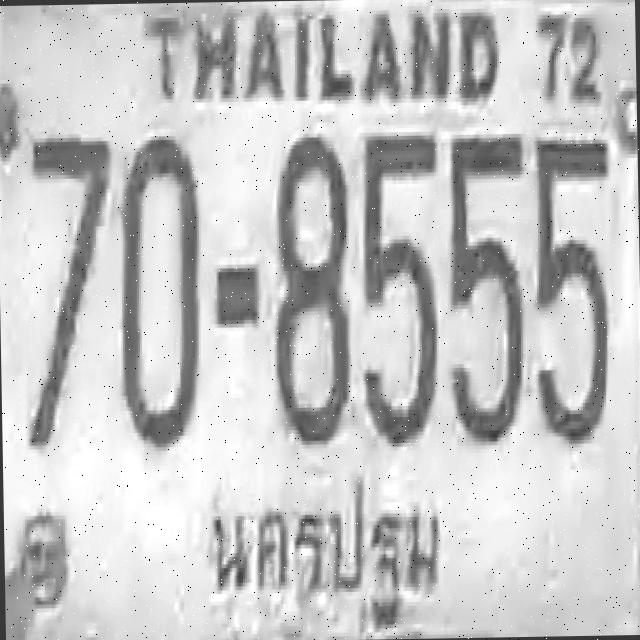0: (114, 130, 202, 449)
5: (444, 130, 528, 446), (358, 129, 441, 445), (532, 134, 612, 446)
7: (23, 133, 115, 449)
8: (270, 133, 350, 444)
NakhonPathom: (199, 475, 446, 632)
